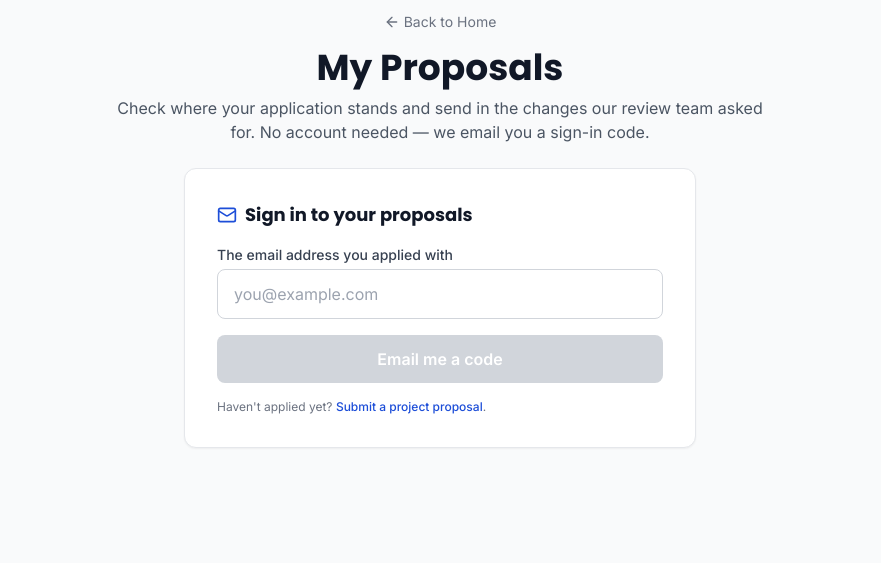
Scenario: MyProposals — an address with no dossier › says how long to wait when the address is capped
The width and height of the screenshot is (881, 563).
Type "amina@example.com" into the field labelled "The email address you applied with" at (440, 294), box x1=217 y1=269 x2=663 y2=319
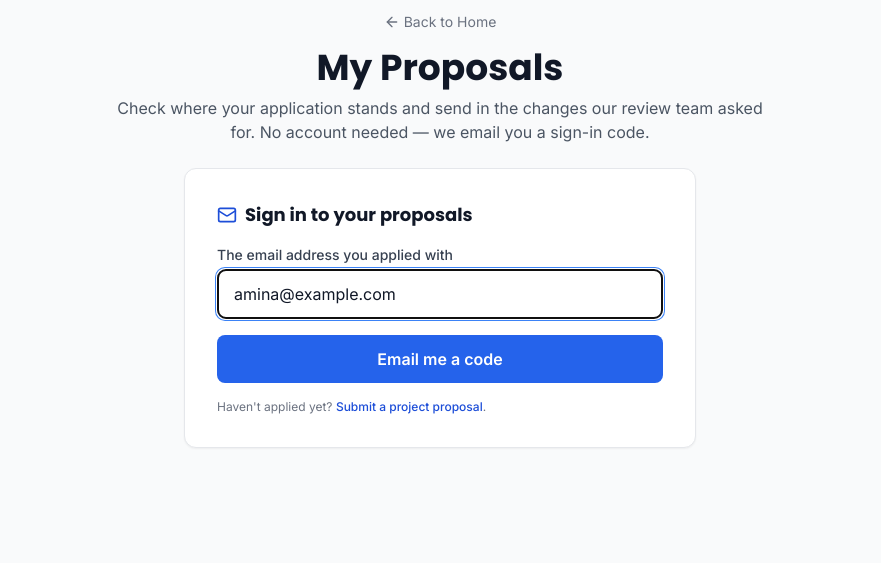
Click the button "Email me a code" at (440, 359), box x1=217 y1=335 x2=663 y2=383
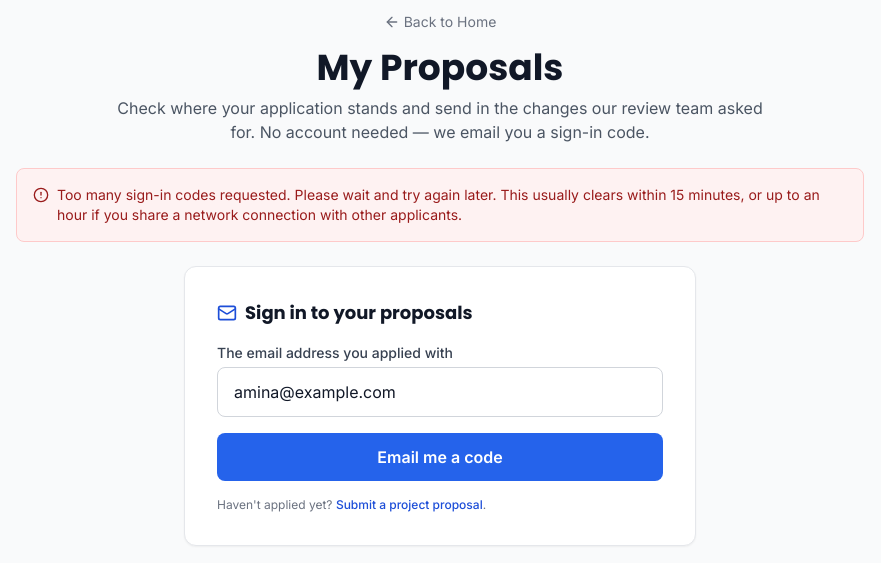
expect the text "up to an hour if you share a network connection" is shown: met, box x1=57 y1=186 x2=820 y2=223
